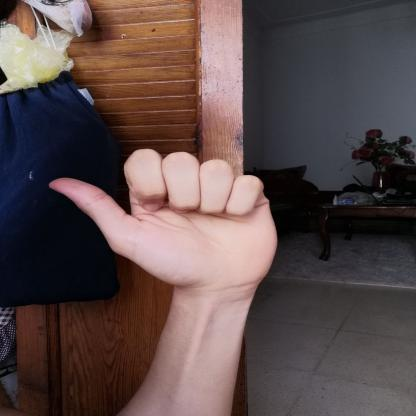DAD: (34, 138, 294, 298)
